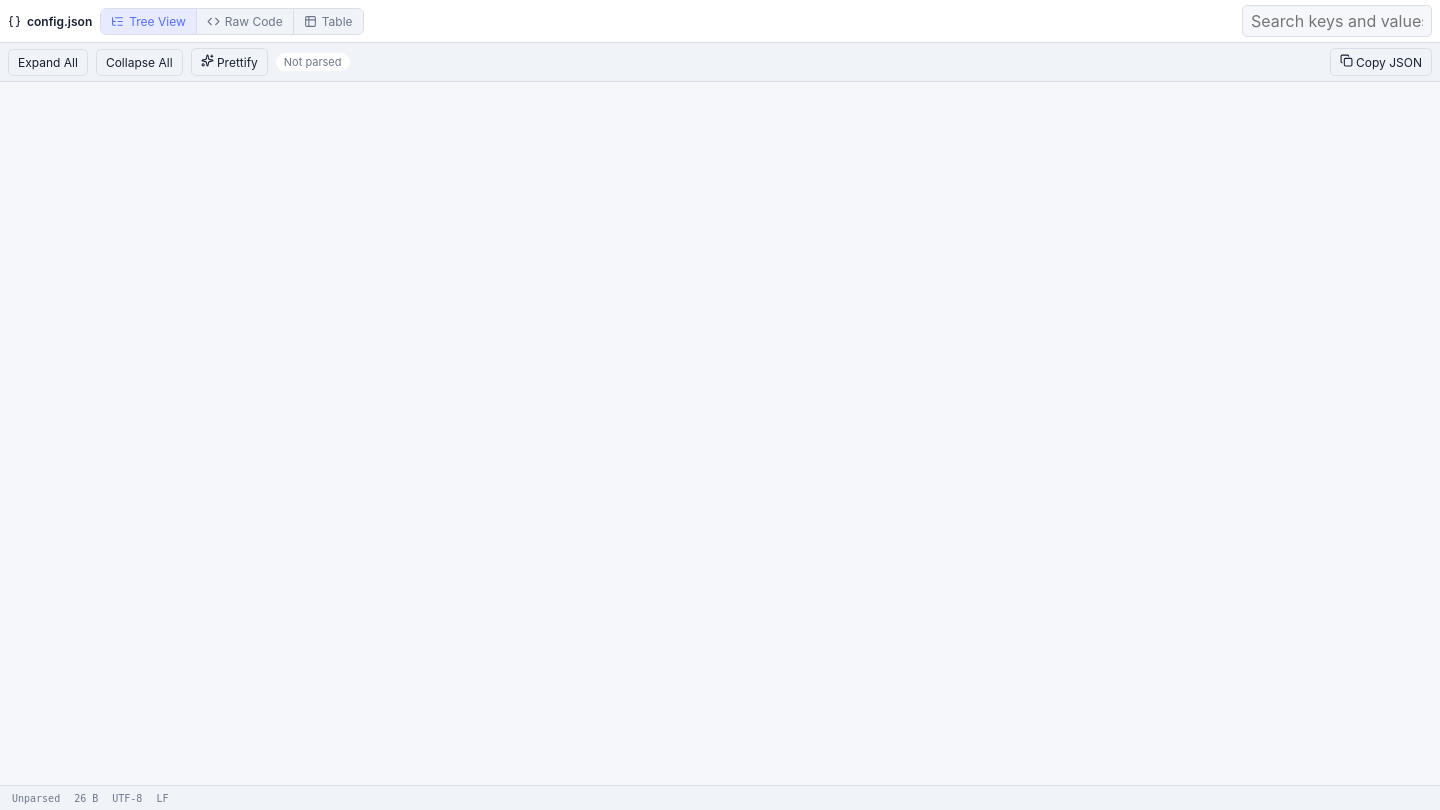
StructuredViewer raw editing › offers an edit button only in raw mode
The image size is (1440, 810).
Expected: the button "Edit JSON" is not shown
Click the button "Raw Code" at (244, 21), box [196,8,293,34]
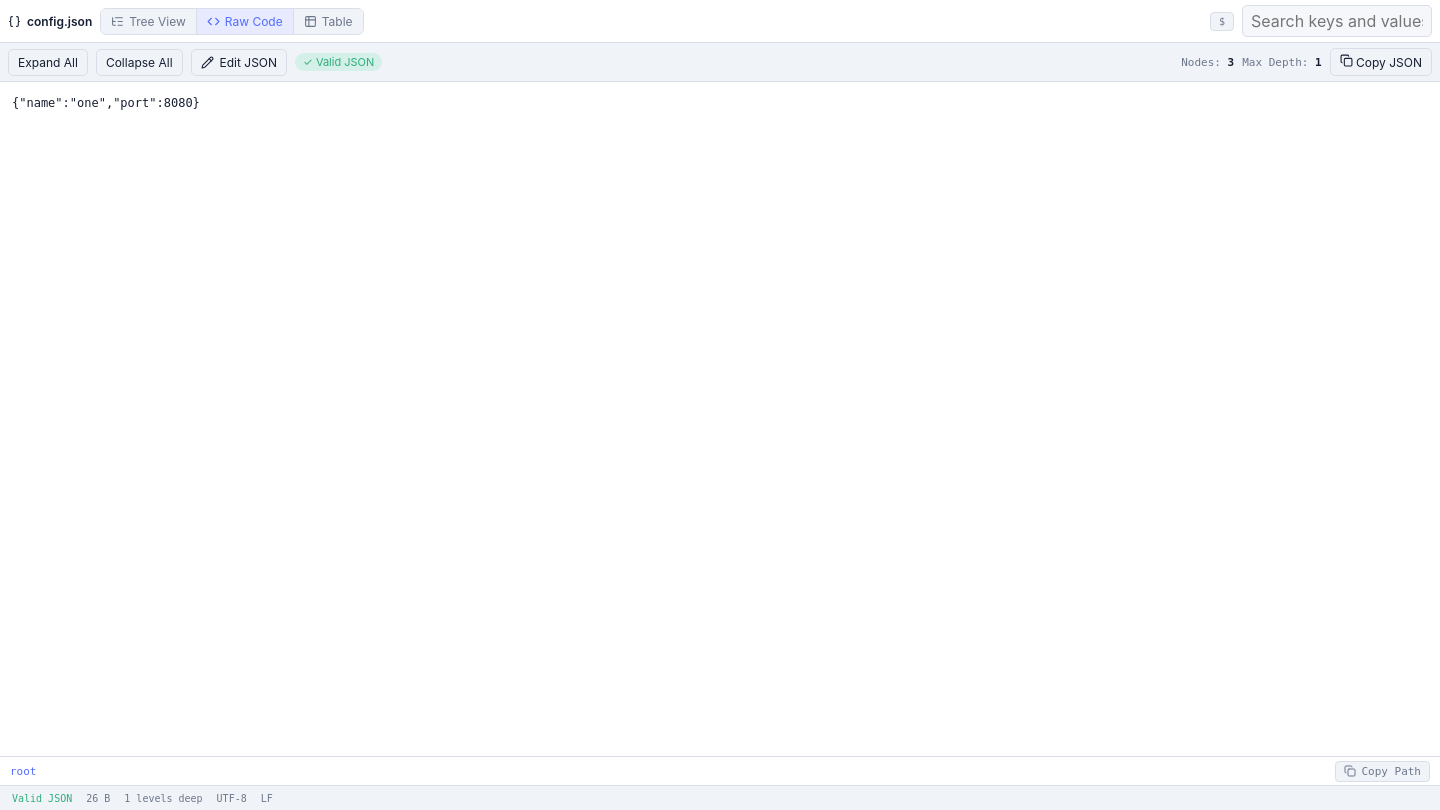
Expected: the button "Edit JSON" is shown, [190,48,287,76]
